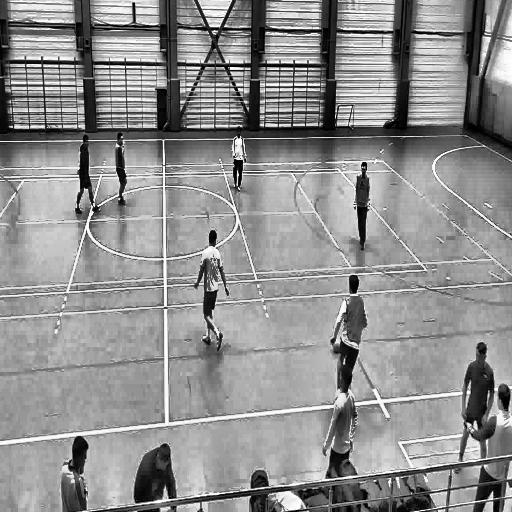ball: (332, 338, 342, 355)
player: (448, 336, 494, 479), (466, 375, 512, 512), (331, 273, 369, 401), (194, 229, 230, 353), (321, 364, 359, 478), (72, 135, 102, 219), (350, 158, 372, 256), (113, 131, 129, 209), (232, 123, 248, 194)
